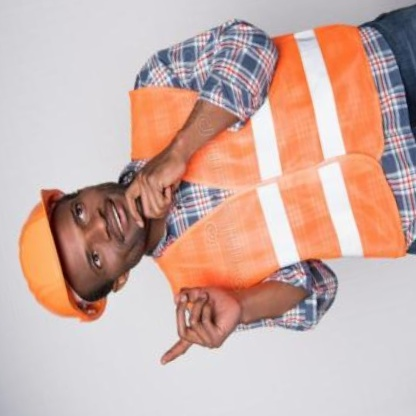vest: (98, 0, 416, 323)
